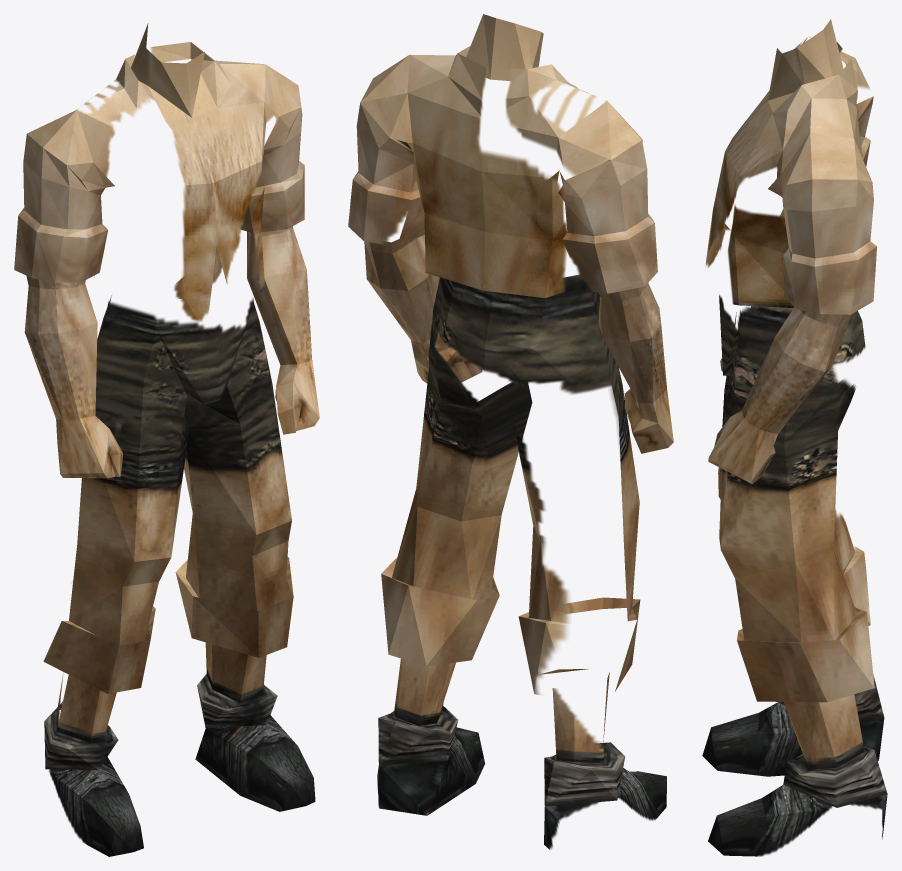
File: Armor_BAU_L.glb
3 renders of one model, left to right at view 1: azimuth 30°, elevation 25°; view 2: azimuth 150°, elevation 25°; view 3: azimuth 270°, elevation 25°, orthographic. The views are drawn at different scales.
Visible parts, largest first — view 1: Armor_BAU_Lzm_Knecht; view 2: Armor_BAU_Lzm_Knecht; view 3: Armor_BAU_Lzm_Knecht.
Part boxes in pixels (x1,y1,x2,y2): Armor_BAU_Lzm_Knecht: (14,23,319,856); Armor_BAU_Lzm_Knecht: (348,14,673,849); Armor_BAU_Lzm_Knecht: (702,19,887,856).
Bounding box in the file's own units: 0.6415 × 1.69 × 0.3602.
2 materials, 2 textured.
